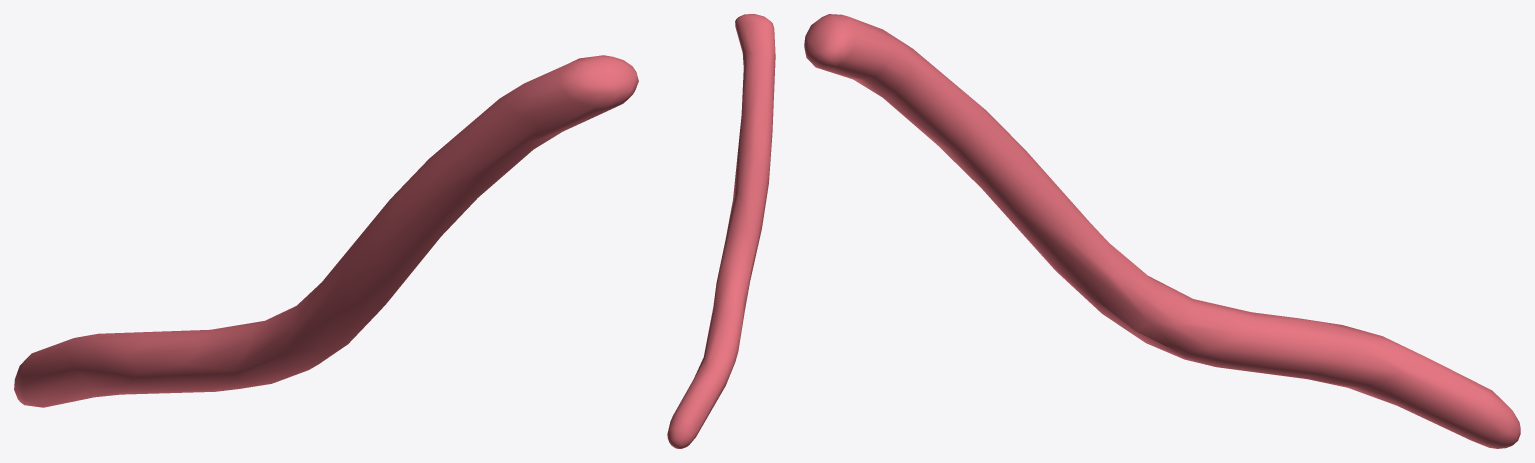
The model's file is fma69514_fj2136.glb.
3 renders of one model, left to right at view 1: azimuth 30°, elevation 25°; view 2: azimuth 150°, elevation 25°; view 3: azimuth 270°, elevation 25°, orthographic. The views are drawn at different scales.
Visible parts, largest first — view 1: FMA69514_FJ2136; view 2: FMA69514_FJ2136; view 3: FMA69514_FJ2136.
Part boxes in pixels (bbox=[...]): FMA69514_FJ2136: bbox=[14, 55, 638, 407]; FMA69514_FJ2136: bbox=[667, 14, 775, 448]; FMA69514_FJ2136: bbox=[804, 14, 1520, 448].
Size of the model in its own units: 0.00853 by 0.0168 by 0.021.
